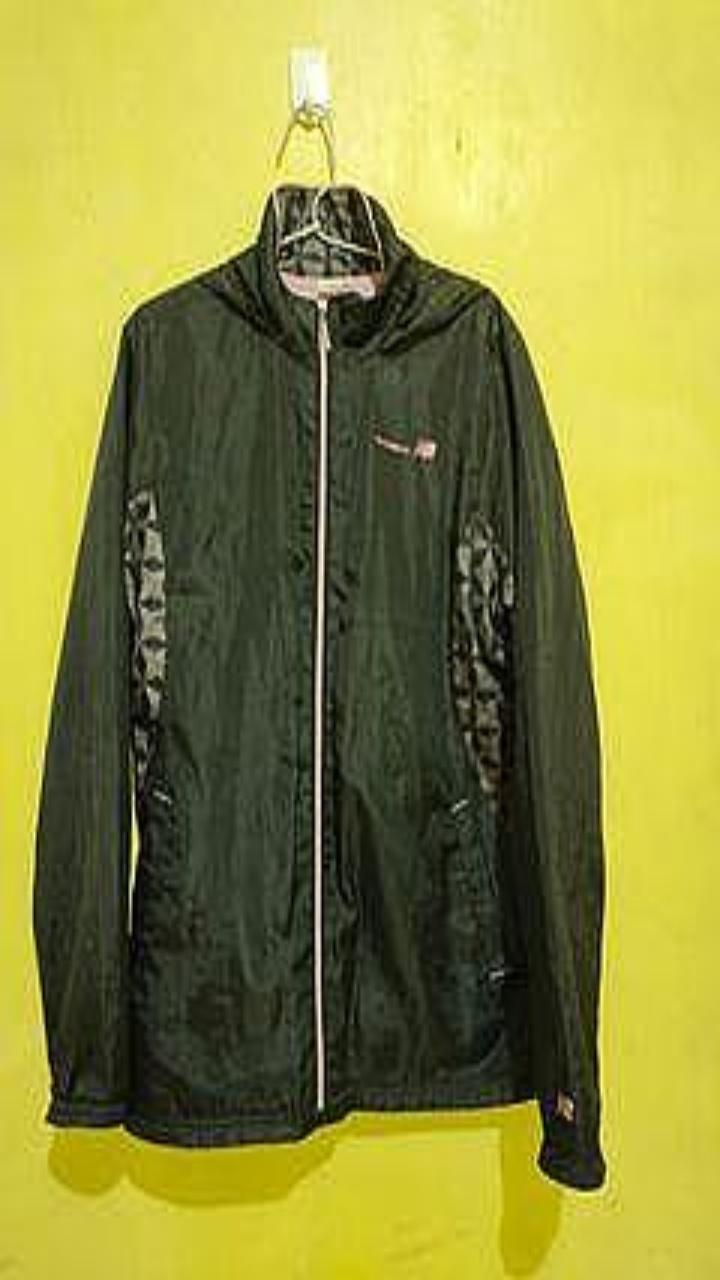Sports_Jacket: (33, 183, 605, 1188)
